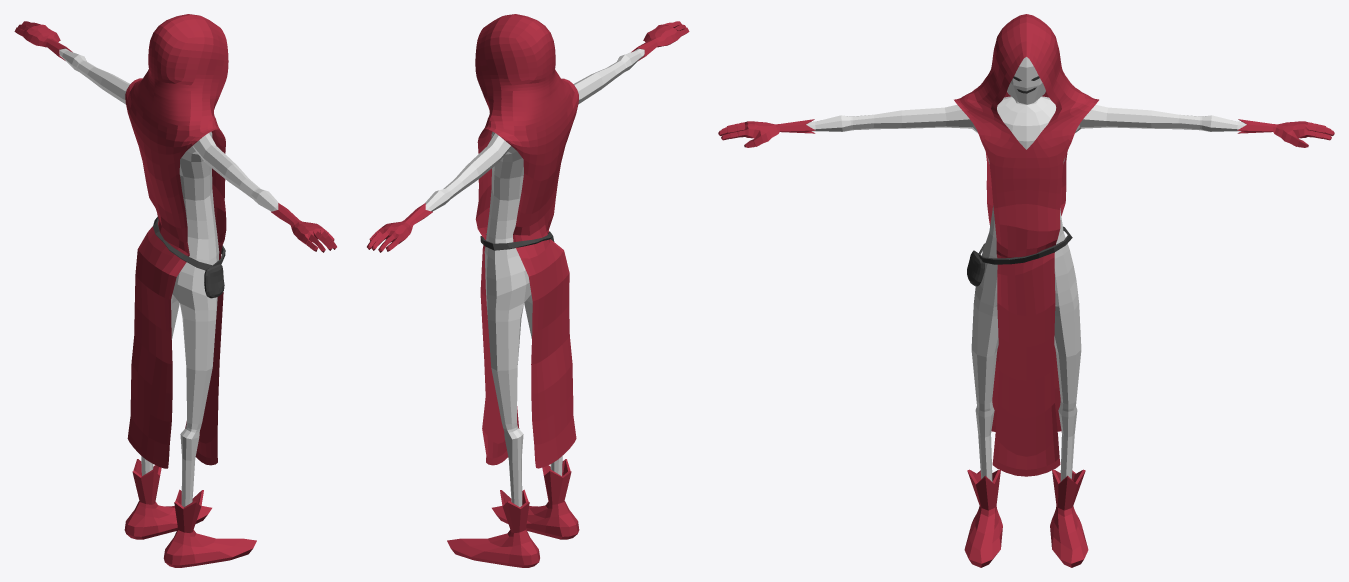
The model's file is FriendComplete.fbx.
The picture shows the model from 3 angles, left to right: view 1: azimuth 30°, elevation 25°; view 2: azimuth 150°, elevation 25°; view 3: azimuth 270°, elevation 25°; orthographic projection.
Visible parts, largest first — view 1: Cloth, Friend, Shoes, Gloves, Belt; view 2: Cloth, Friend, Shoes, Gloves, Belt; view 3: Cloth, Friend, Shoes, Gloves, Belt.
Boxes of the visible parts, x1=… form: Cloth: x1=125, y1=14, x2=228, y2=468; Friend: x1=59, y1=48, x2=278, y2=506; Shoes: x1=124, y1=459, x2=256, y2=567; Gloves: x1=14, y1=21, x2=336, y2=252; Belt: x1=153, y1=217, x2=225, y2=298; Cloth: x1=475, y1=14, x2=578, y2=468; Friend: x1=425, y1=48, x2=644, y2=506; Shoes: x1=447, y1=459, x2=579, y2=567; Gloves: x1=367, y1=21, x2=689, y2=252; Belt: x1=480, y1=231, x2=554, y2=250; Cloth: x1=954, y1=14, x2=1098, y2=476; Friend: x1=806, y1=57, x2=1246, y2=481; Shoes: x1=964, y1=469, x2=1088, y2=567; Gloves: x1=718, y1=119, x2=1334, y2=147; Belt: x1=967, y1=226, x2=1072, y2=286.
Size of the model in its own units: 2.04 by 11.51 by 12.17.
